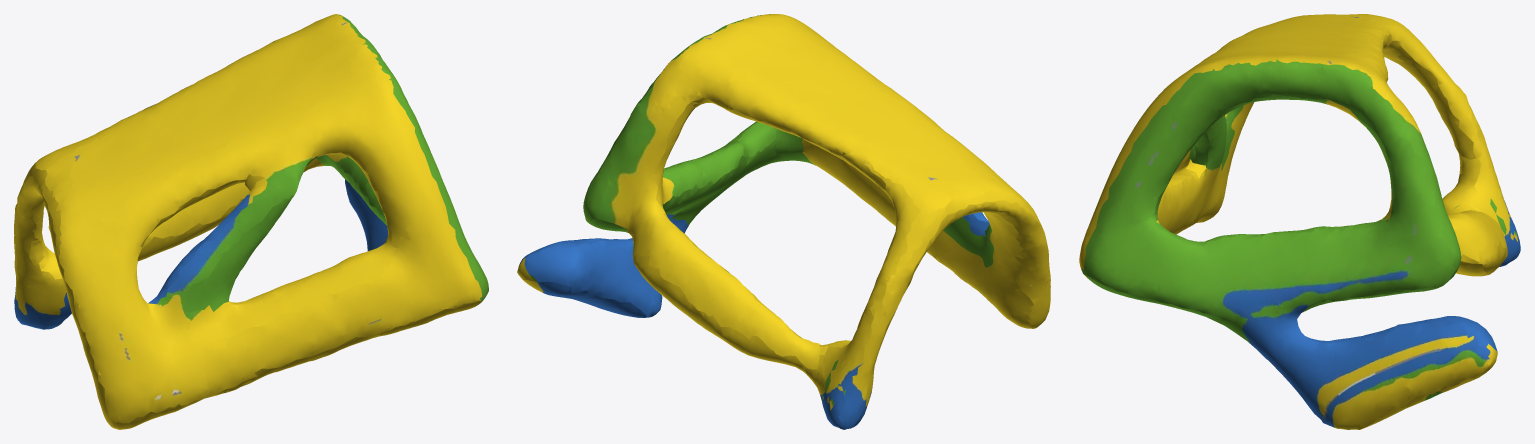
The model's file is monkeybars.glb.
3 views of the same model, side by side, from view 1: azimuth 30°, elevation 25°; view 2: azimuth 150°, elevation 25°; view 3: azimuth 270°, elevation 25° (orthographic). The views are drawn at different scales.
Visible parts, largest first — view 1: geometry_0; view 2: geometry_0; view 3: geometry_0.
Part boxes in pixels (<box>): geometry_0: <box>14,14,488,429</box>; geometry_0: <box>517,14,1050,429</box>; geometry_0: <box>1079,14,1520,429</box>.
Size of the model in its own units: 1.12 by 0.7204 by 0.9212.
Materials: 1 (1 with a texture image).
